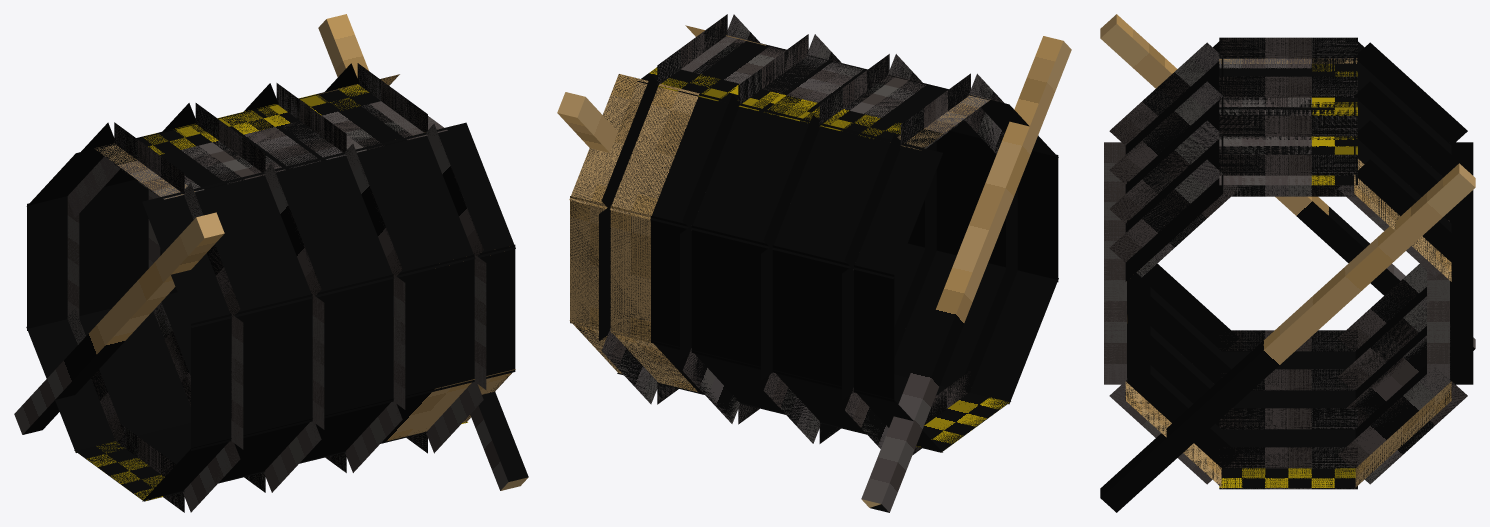
The model's file is barbed_wire_acid.obj.
3 views of the same model, side by side, from view 1: azimuth 30°, elevation 25°; view 2: azimuth 150°, elevation 25°; view 3: azimuth 270°, elevation 25° (orthographic).
Visible parts, largest first — view 1: barbed_wire_acid; view 2: barbed_wire_acid; view 3: barbed_wire_acid.
Part boxes in pixels (box(x1,y1,x2,y2)): barbed_wire_acid: box(14, 14, 528, 512); barbed_wire_acid: box(557, 14, 1071, 512); barbed_wire_acid: box(1100, 14, 1475, 512).
Size of the model in its own units: 1 by 1.03 by 1.02.
